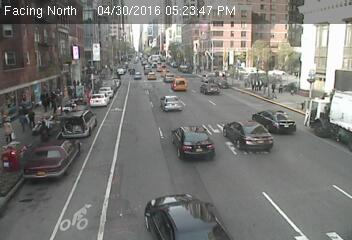neg: (73, 120, 85, 137), (62, 118, 74, 134), (80, 93, 88, 103), (130, 67, 136, 76), (140, 62, 146, 71)
pos: (276, 81, 286, 95), (270, 80, 279, 92)
